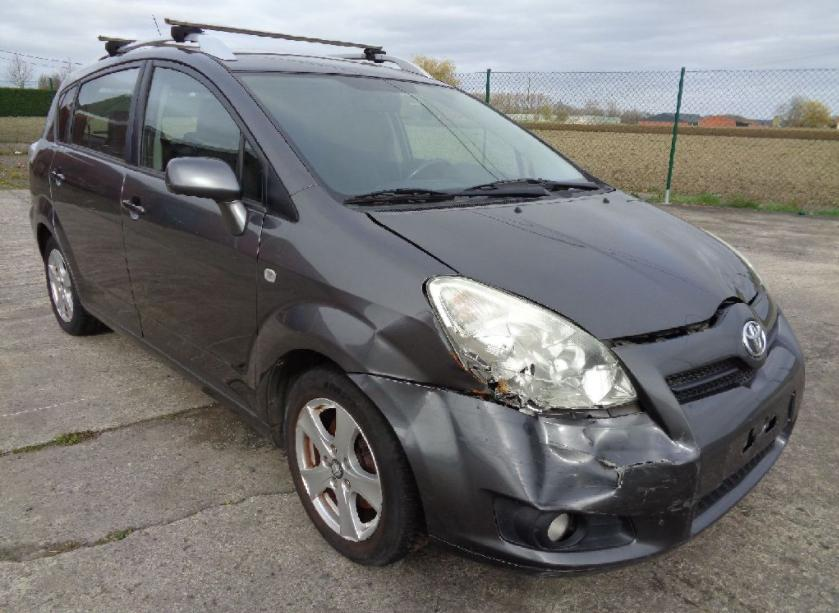Back-door: (49, 59, 147, 340)
Back-wheel: (44, 236, 113, 337)
Back-window: (70, 67, 140, 163), (58, 86, 78, 141)
Fender: (255, 184, 490, 425)
Front-bumper: (347, 286, 804, 574)
Front-door: (122, 58, 299, 418)
Front-wheel: (282, 360, 429, 565)
Front-window: (141, 67, 240, 172), (241, 138, 263, 202)
Grille: (665, 356, 759, 400)
Headlight: (426, 275, 639, 416), (698, 227, 768, 293)
Hood: (366, 190, 762, 340)
Mirror: (165, 155, 249, 237)
Quarter-panel: (29, 138, 64, 261)
Rocker-panel: (77, 298, 285, 448)
Roof: (93, 18, 451, 86), (202, 29, 365, 56)
Windshield: (231, 70, 616, 211)
